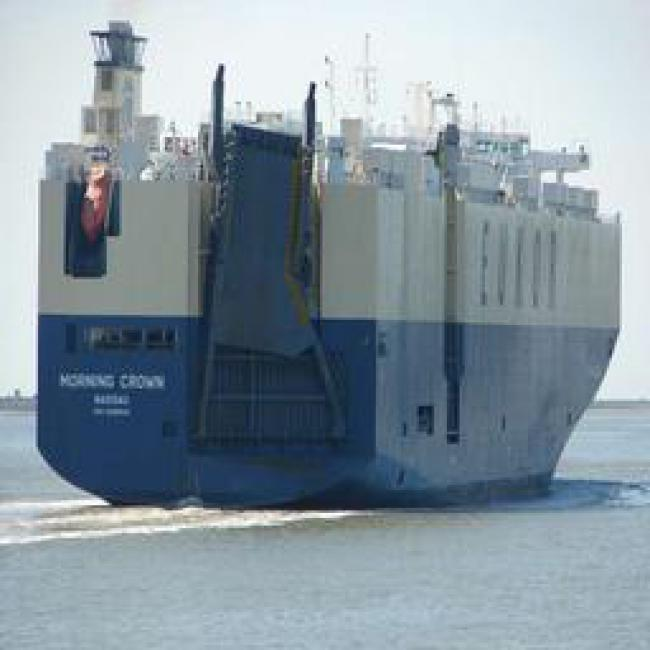Ship: (25, 101, 633, 515)
